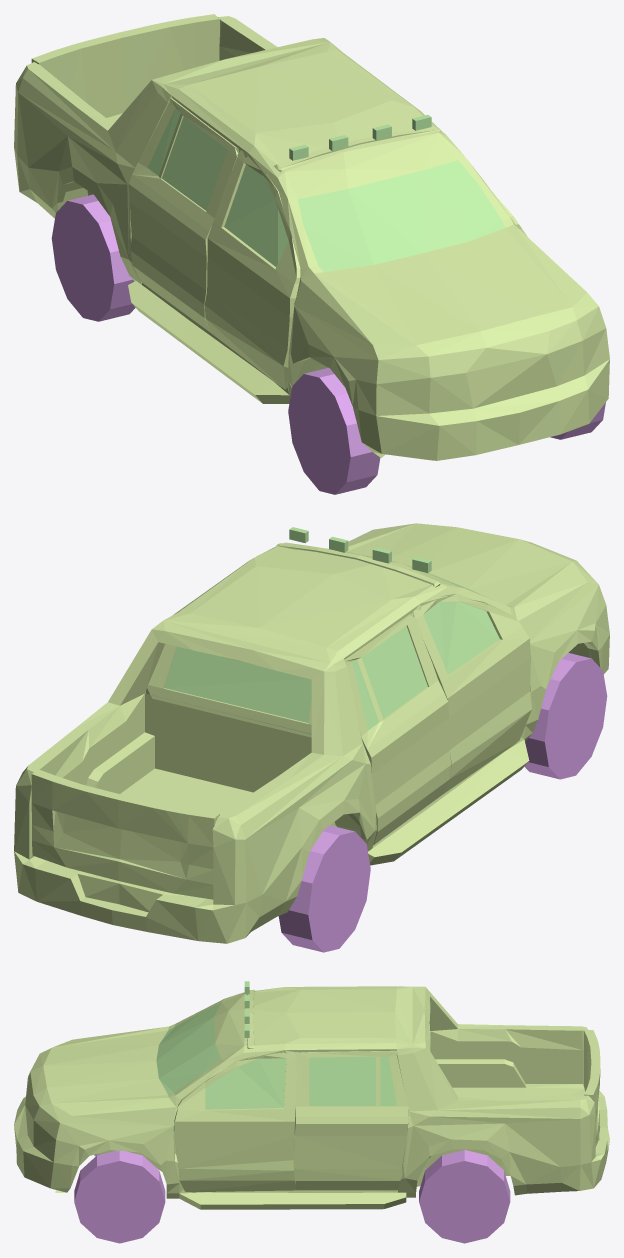
The model's file is land-wheeled-patriot-kodiak--whl-02-pickup.glb.
3 renders of one model, top to bottom at view 1: azimuth 30°, elevation 25°; view 2: azimuth 150°, elevation 25°; view 3: azimuth 270°, elevation 25°, orthographic. The views are drawn at different scales.
Visible parts, largest first — view 1: CC_WHL_02_PickupBody, CC_WHL_02_Wheel_R_1, CC_WHL_02_Wheel_R_3; view 2: CC_WHL_02_PickupBody, CC_WHL_02_Wheel_R_3, CC_WHL_02_Wheel_R_1; view 3: CC_WHL_02_PickupBody, CC_WHL_02_Wheel_R_2, CC_WHL_02_Wheel_R_0.
Boxes of the visible parts, left/top/right/bottom form: CC_WHL_02_PickupBody: left=14, top=14, right=609, bottom=460; CC_WHL_02_Wheel_R_1: left=288, top=367, right=380, bottom=494; CC_WHL_02_Wheel_R_3: left=51, top=194, right=135, bottom=321; CC_WHL_02_PickupBody: left=14, top=523, right=609, bottom=943; CC_WHL_02_Wheel_R_3: left=278, top=825, right=370, bottom=952; CC_WHL_02_Wheel_R_1: left=524, top=653, right=607, bottom=779; CC_WHL_02_PickupBody: left=14, top=981, right=609, bottom=1209; CC_WHL_02_Wheel_R_2: left=419, top=1150, right=510, bottom=1243; CC_WHL_02_Wheel_R_0: left=74, top=1150, right=165, bottom=1243.
Bounding box in the file's own units: 2.5 × 2.29 × 6.45.
